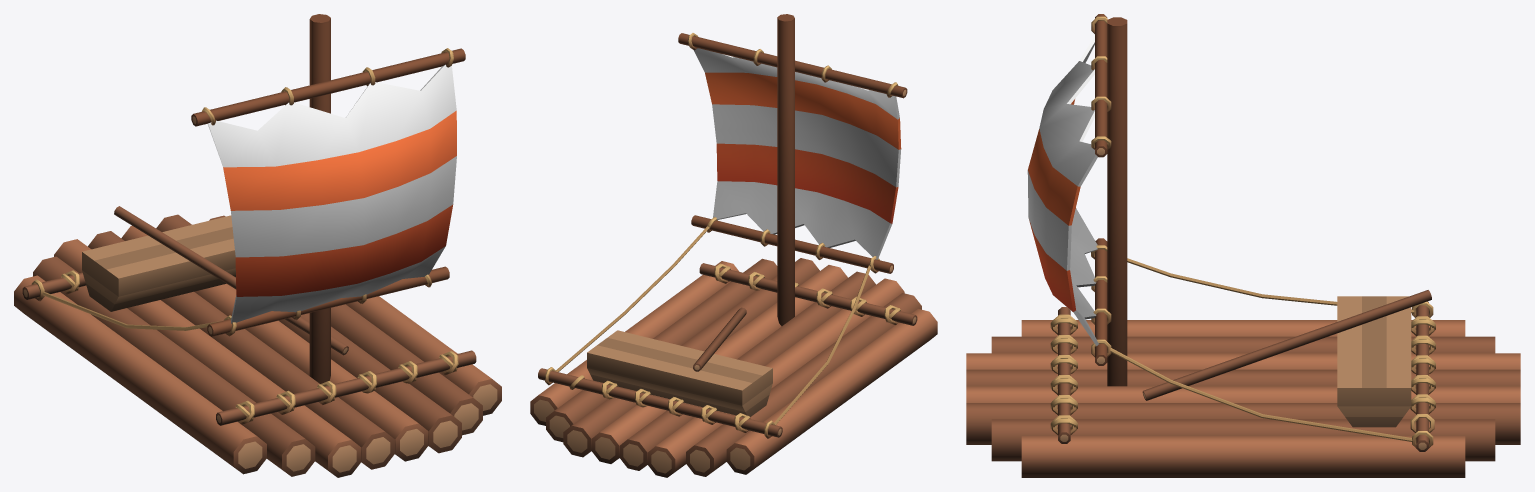
The model's file is wooden raft sail.fbx.
3 views of the same model, side by side, from view 1: azimuth 30°, elevation 25°; view 2: azimuth 150°, elevation 25°; view 3: azimuth 270°, elevation 25° (orthographic). The views are drawn at different scales.
Parts seen in each view (by area): view 1: wooden_raft_sail, wooden_place, rowing_2; view 2: wooden_raft_sail, wooden_place, rowing_2; view 3: wooden_raft_sail, wooden_place, rowing_2.
Boxes of the visible parts, x1,y1,x2,y2 form: wooden_raft_sail: (14,14,501,477); wooden_place: (82,215,235,311); rowing_2: (114,206,348,355); wooden_raft_sail: (530,14,937,477); wooden_place: (587,330,772,416); rowing_2: (693,307,746,371); wooden_raft_sail: (966,14,1520,477); wooden_place: (1337,296,1411,427); rowing_2: (1142,290,1431,400).
Bounding box in the file's own units: 237 × 309 × 393.
1 material, 1 textured.
